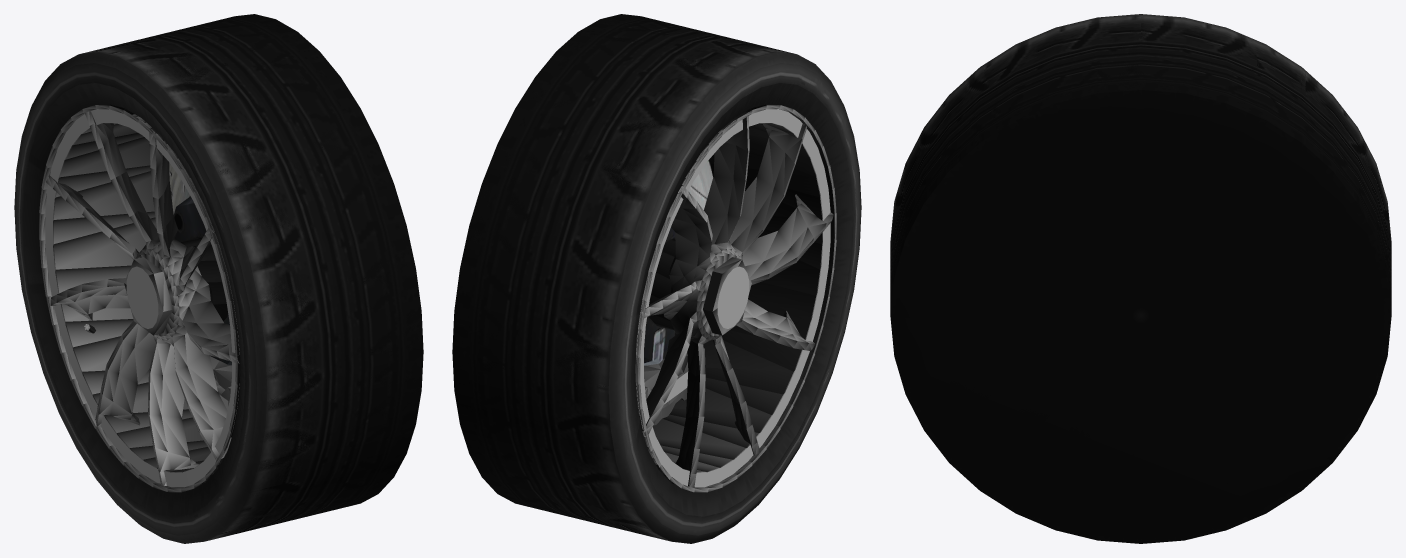
Rendered from agera.fbx.
3 renders of one model, left to right at view 1: azimuth 30°, elevation 25°; view 2: azimuth 150°, elevation 25°; view 3: azimuth 270°, elevation 25°, orthographic.
Parts seen in each view (by area): view 1: Tirefl_garage, Tirefr_garage, Rimfl_garage_vcolor, Rimfl_garage_lable_01, brake_disk_fl_garage, Rimfl_garage_lable, support_fl_vcolor; view 2: Tirefr_garage, Tirefl_garage, Rimfl_garage_vcolor, Rimfl_garage_lable_01, brake_disk_fl_garage, Rimfl_garage_lable, Rimfr_garage_vcolor, support_fl_vcolor; view 3: Tirefr_garage, Tirefl_garage, Tire_LP_fl_garage, Tire_LP_fr_garage.
Part boxes in pixels (<box>): Tirefl_garage: <box>14,19,423,543</box>; Tirefr_garage: <box>14,14,423,542</box>; Rimfl_garage_vcolor: <box>39,105,240,492</box>; Rimfl_garage_lable_01: <box>45,109,239,487</box>; brake_disk_fl_garage: <box>169,163,231,365</box>; Rimfl_garage_lable: <box>126,266,158,328</box>; support_fl_vcolor: <box>210,356,231,405</box>; Tirefr_garage: <box>452,14,861,543</box>; Tirefl_garage: <box>452,14,861,533</box>; Rimfl_garage_vcolor: <box>635,105,836,492</box>; Rimfl_garage_lable_01: <box>636,109,830,487</box>; brake_disk_fl_garage: <box>644,160,712,365</box>; Rimfl_garage_lable: <box>717,266,749,328</box>; Rimfr_garage_vcolor: <box>649,239,675,330</box>; support_fl_vcolor: <box>644,348,705,425</box>; Tirefr_garage: <box>890,14,1391,543</box>; Tirefl_garage: <box>890,14,1391,543</box>; Tire_LP_fl_garage: <box>939,134,1343,485</box>; Tire_LP_fr_garage: <box>938,134,1343,484</box>.
Bounding box in the file's own units: 0.9717 × 2.54 × 2.54.
